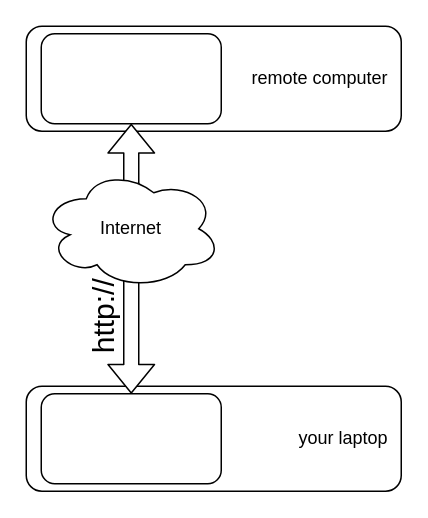
The diagram is 428 pixels wide and 518 high, and some of its shapes have lost their labels. Each missing label, with the centre of its shape:
web browser: pixel 130 438
web server: pixel 130 78
